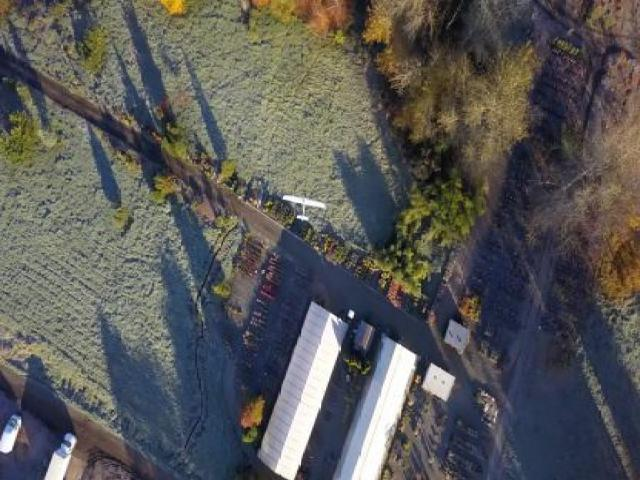uav: (277, 184, 331, 226)
